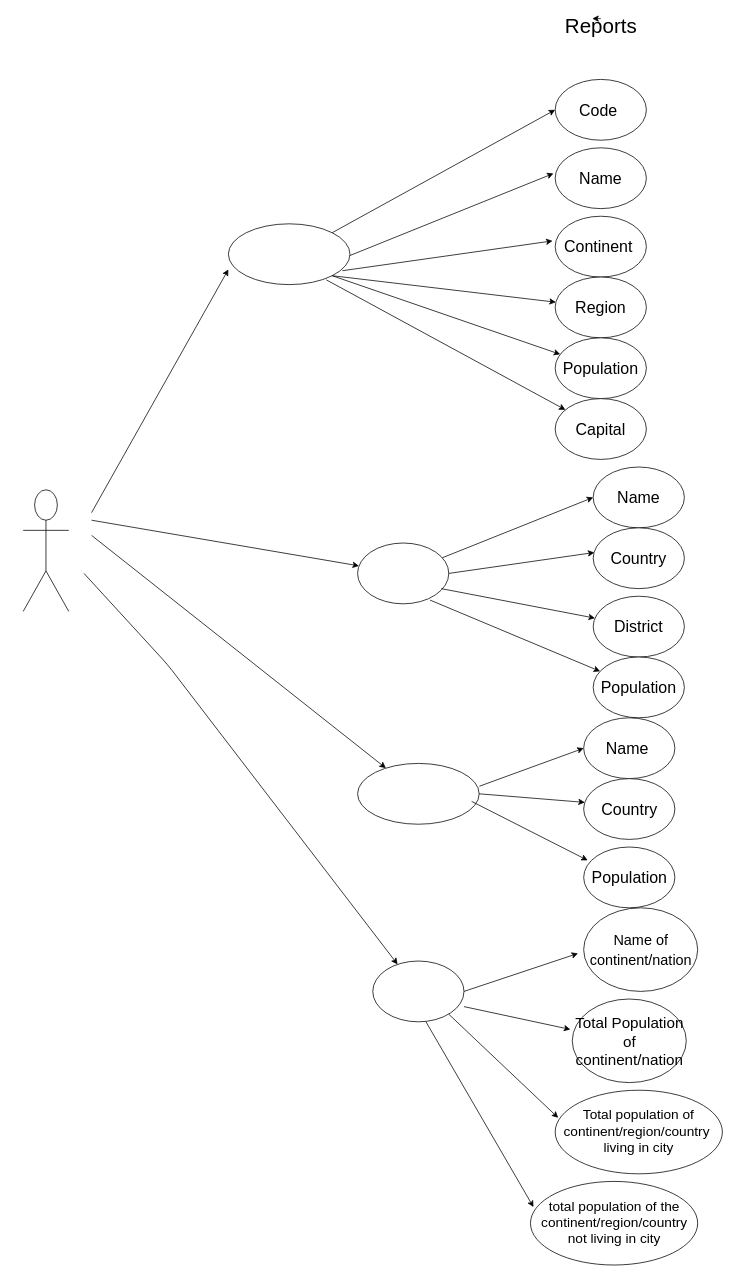
The diagram is 736 pixels wide and 1278 high, and some of its shapes have lost their labels. Each missing label, with the centre of its shape:
"Open capital city report" belongs at [418,793].
"Open city report" belongs at [403,573].
"Open country report" belongs at [289,254].
"Open population report" belongs at [418,991].
"Worker" belongs at [45,550].
